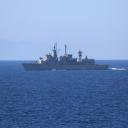Fragata: (22, 38, 110, 73)
